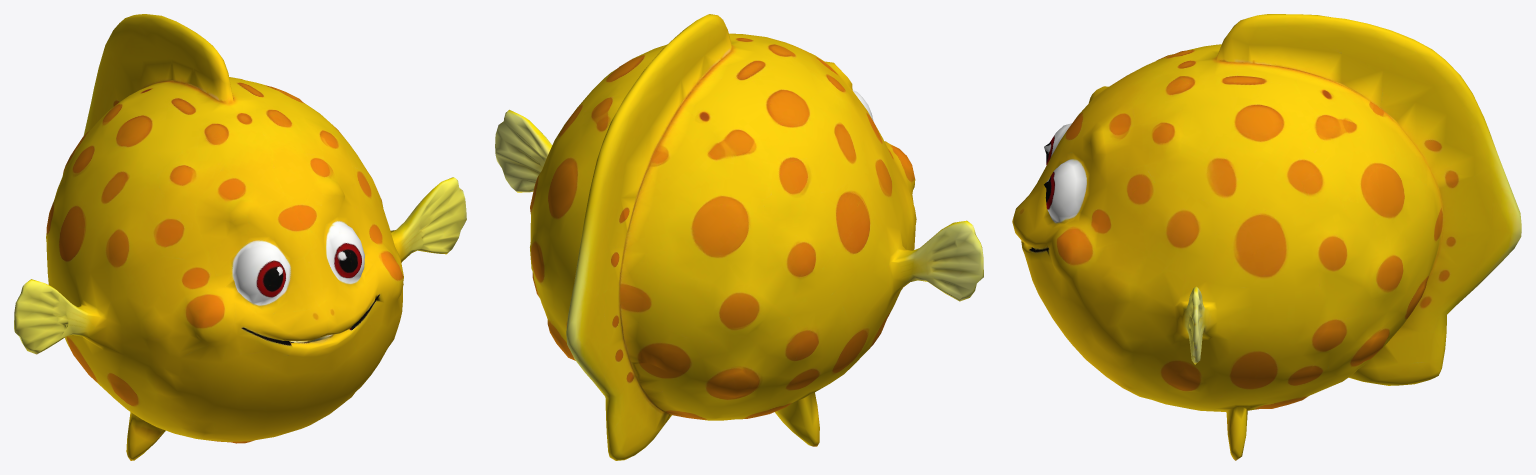
Rendered from fish_round.glb.
3 views of the same model, side by side, from view 1: azimuth 30°, elevation 25°; view 2: azimuth 150°, elevation 25°; view 3: azimuth 270°, elevation 25° (orthographic). The views are drawn at different scales.
Size of the model in its own units: 1.91 by 1.56 by 1.8.
1 material, 1 textured.
